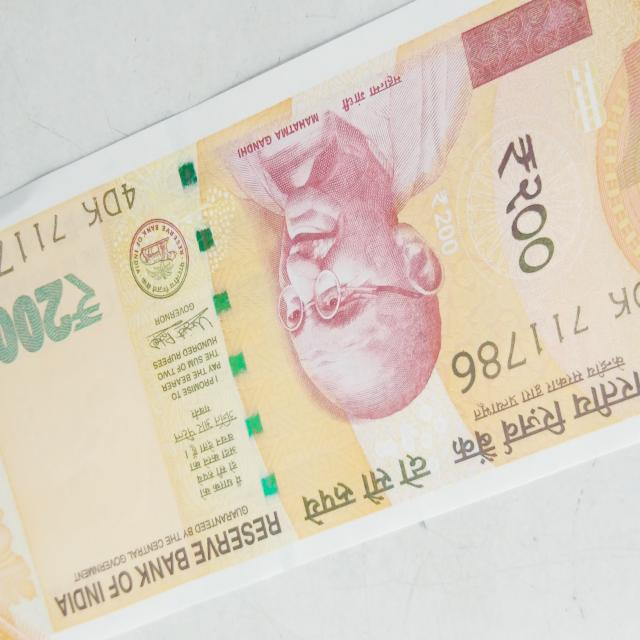200rs: (0, 90, 640, 447)
